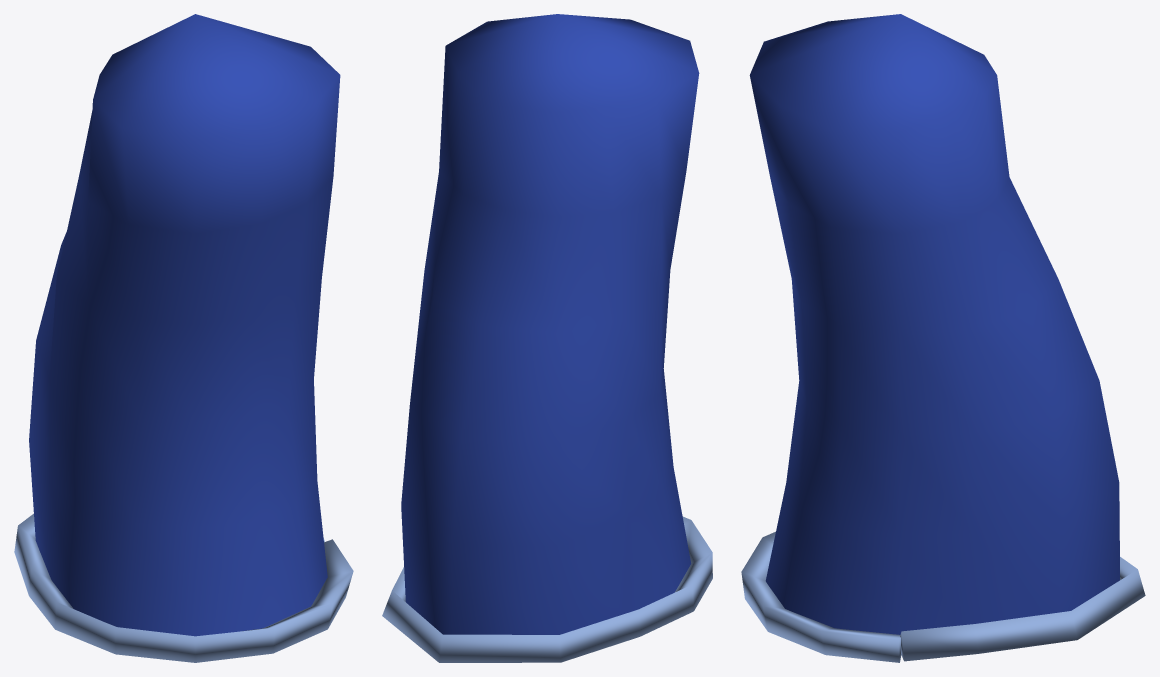
Rendered from stardust_armor_boot.R.glb.
3 views of the same model, side by side, from view 1: azimuth 30°, elevation 25°; view 2: azimuth 150°, elevation 25°; view 3: azimuth 270°, elevation 25° (orthographic). The views are drawn at different scales.
Visible parts, largest first — view 1: stardust_armor_boot.R; view 2: stardust_armor_boot.R; view 3: stardust_armor_boot.R.
Part boxes in pixels (x1,y1,x2,y2): stardust_armor_boot.R: (14,14,353,662); stardust_armor_boot.R: (382,14,712,662); stardust_armor_boot.R: (741,14,1145,662).
Bounding box in the file's own units: 0.147 × 0.2958 × 0.1849.
